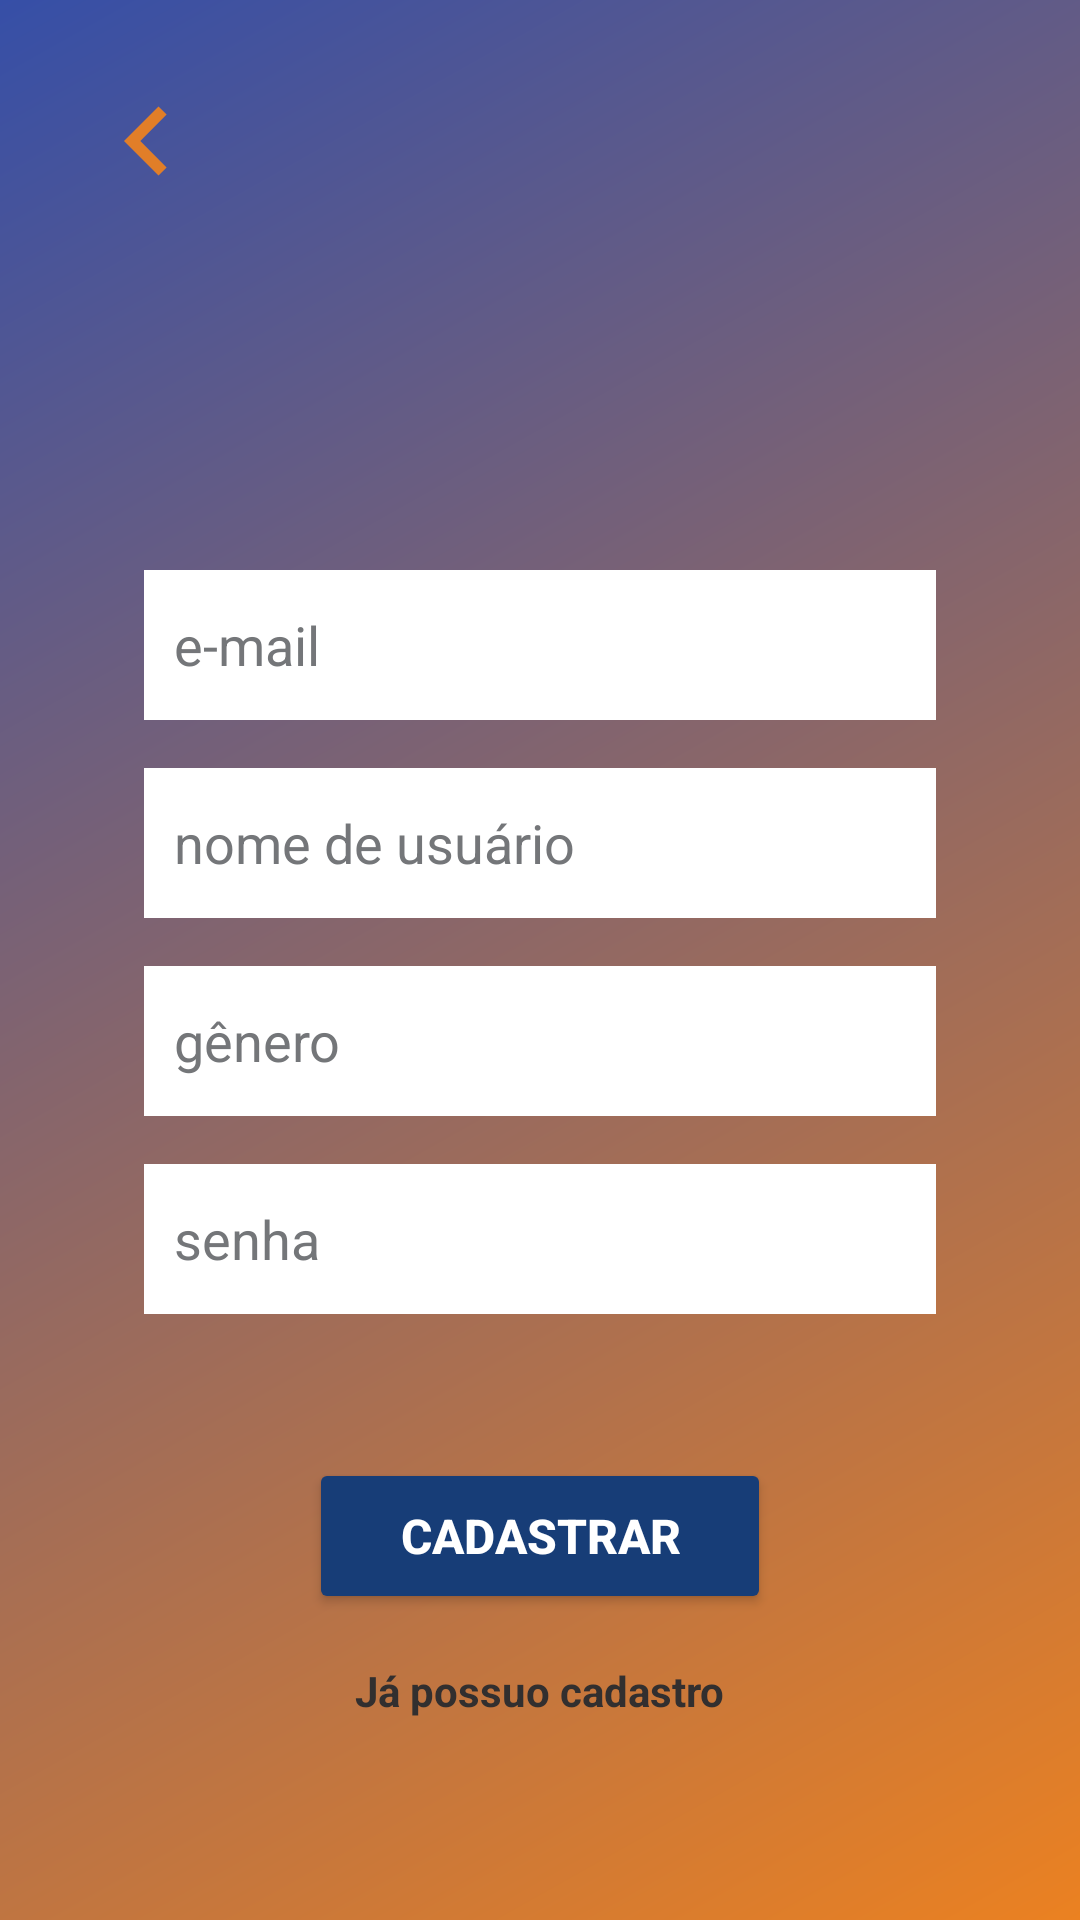

Locate icon controls on the screen. Image size 1080*1920, boxes as (x1, y1, x2, y2).
arrow left: (124, 106, 167, 176)
